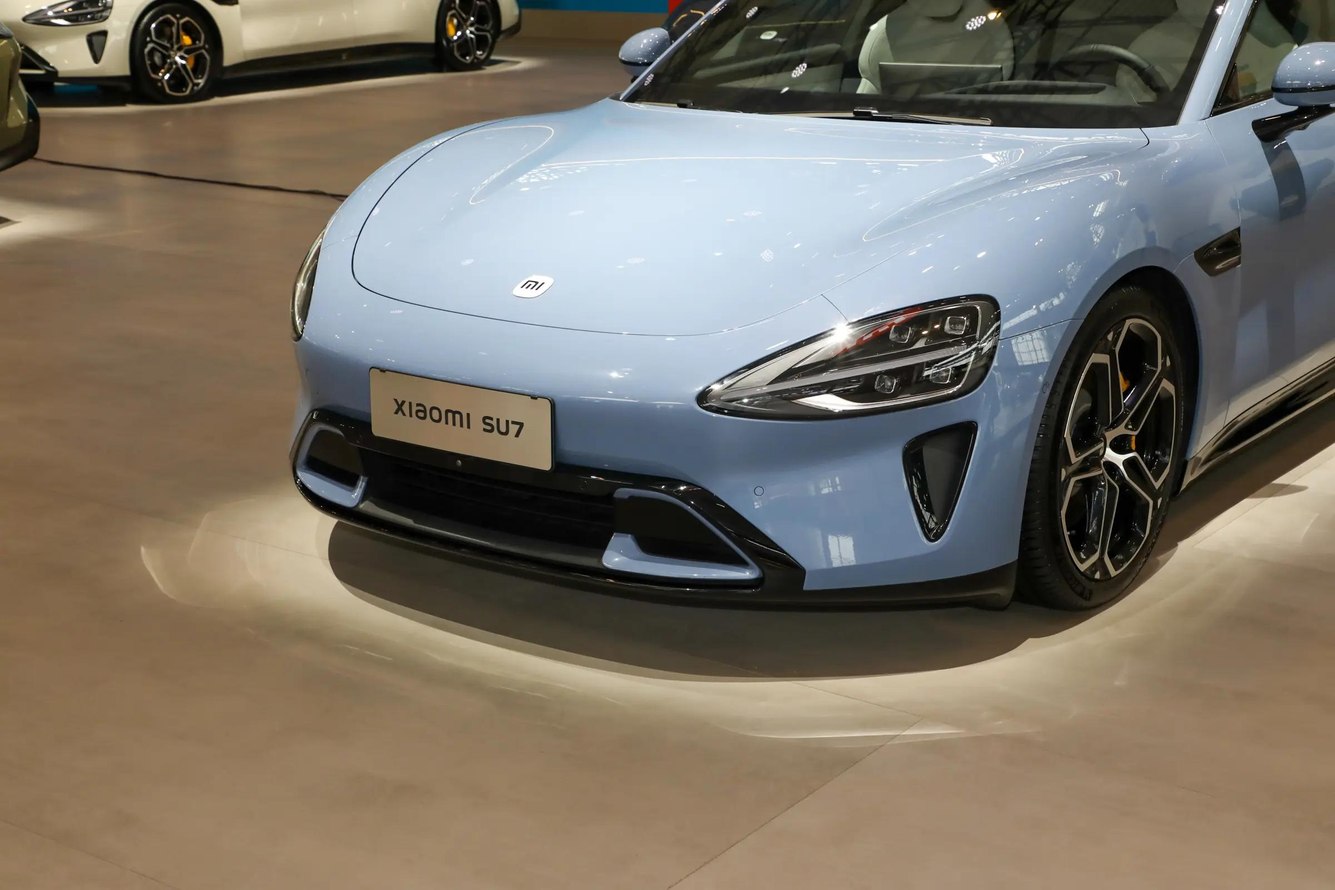XIAOMI: (512, 275, 554, 298)
